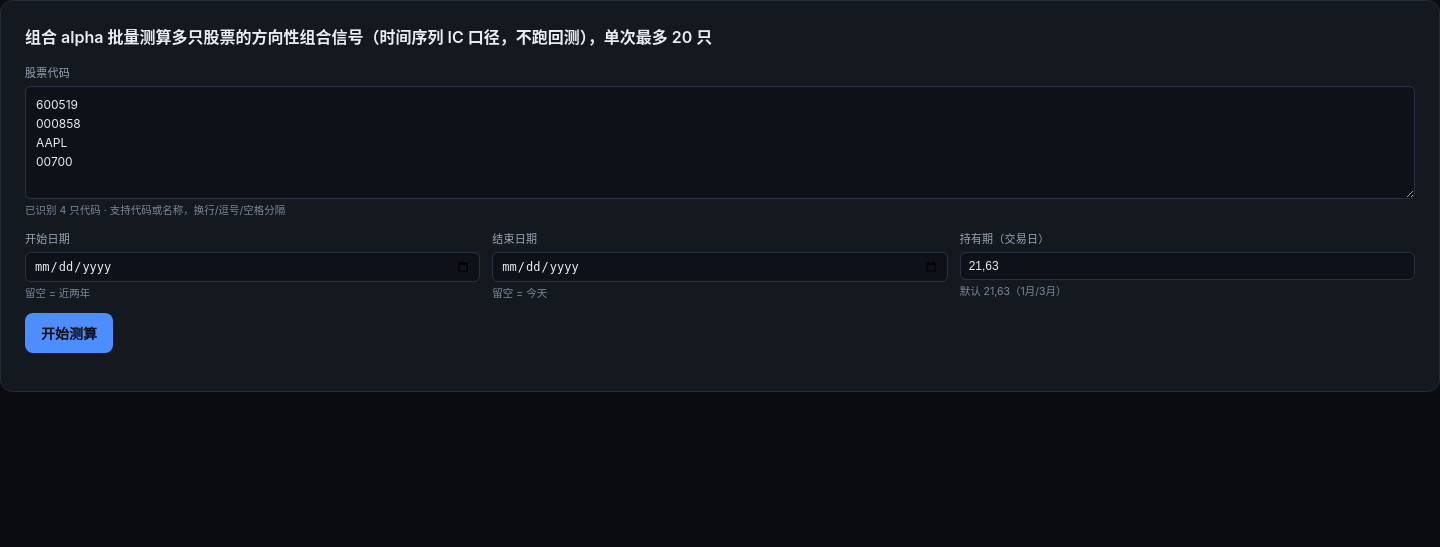
Test: CompositeBatchPanel —— 代码解析与请求参数 › 持有期全部非法时回落默认 21,63，而不是发空数组
Step 1. Replace the text in the text box labelled "股票代码 已识别 4 只代码 · 支持代码或名称，换行/逗号/空格分隔" with "600519" → (720, 142), box [25,86,1415,199]
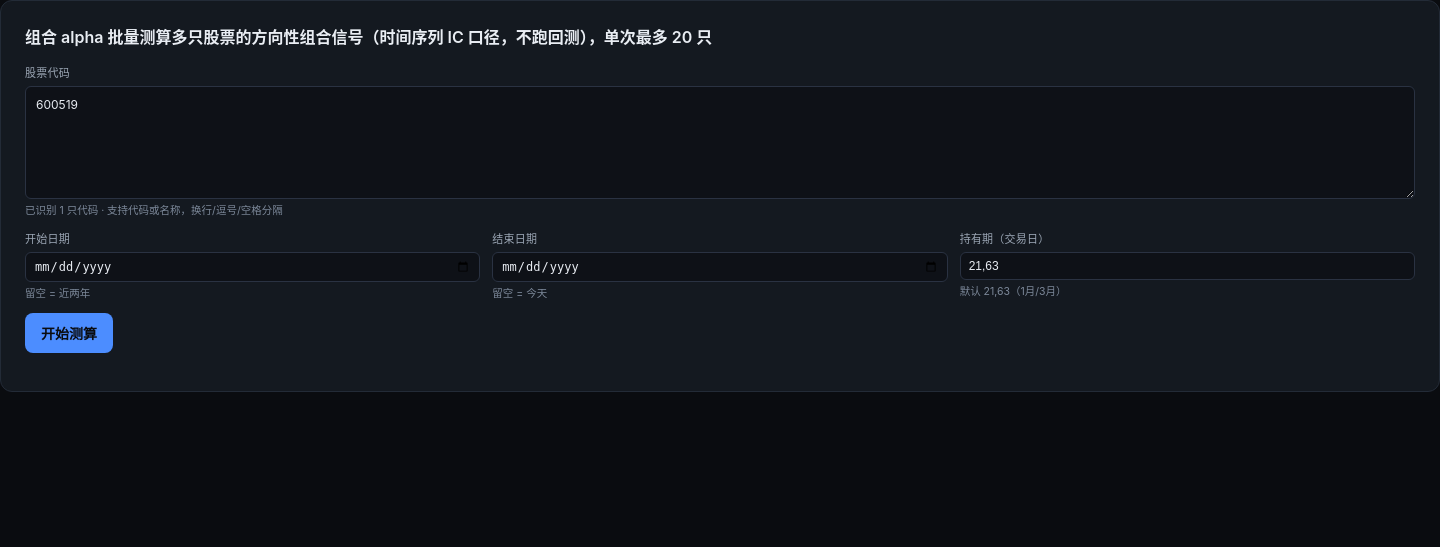
Step 2. Replace the text in the field labelled "持有期（交易日） 默认 21,63（1月/3月）" with "0, -1, x" → (1187, 266), box [960,252,1415,280]
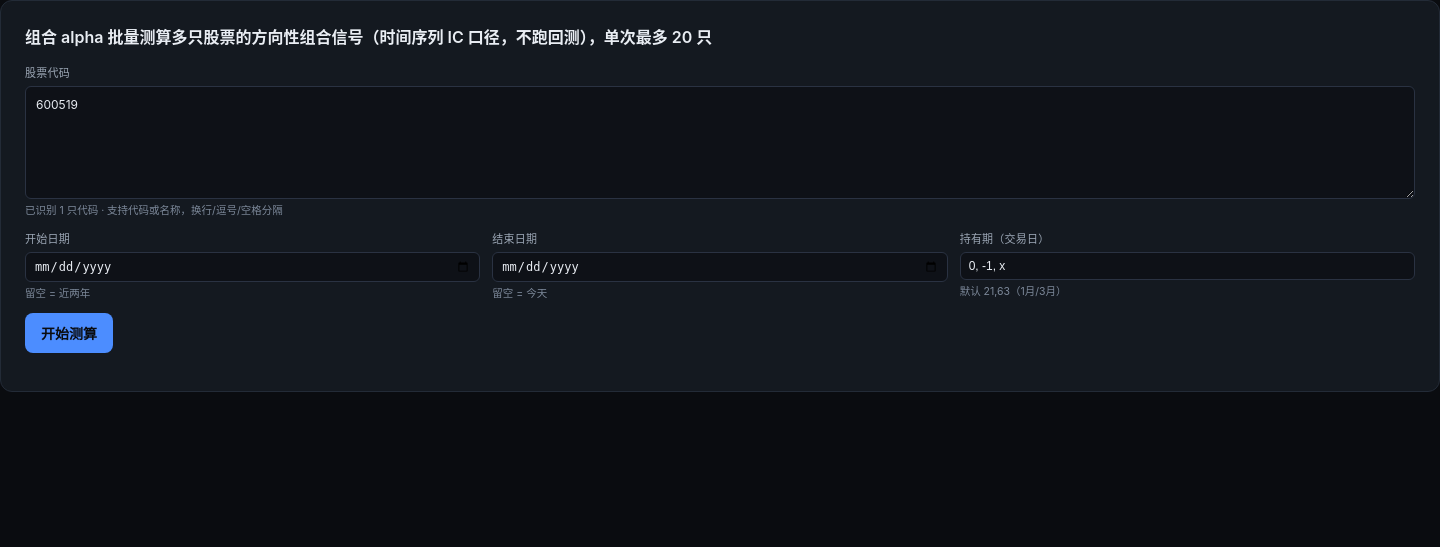
Step 3. Click the button "开始测算" → (69, 333), box [25,313,113,353]
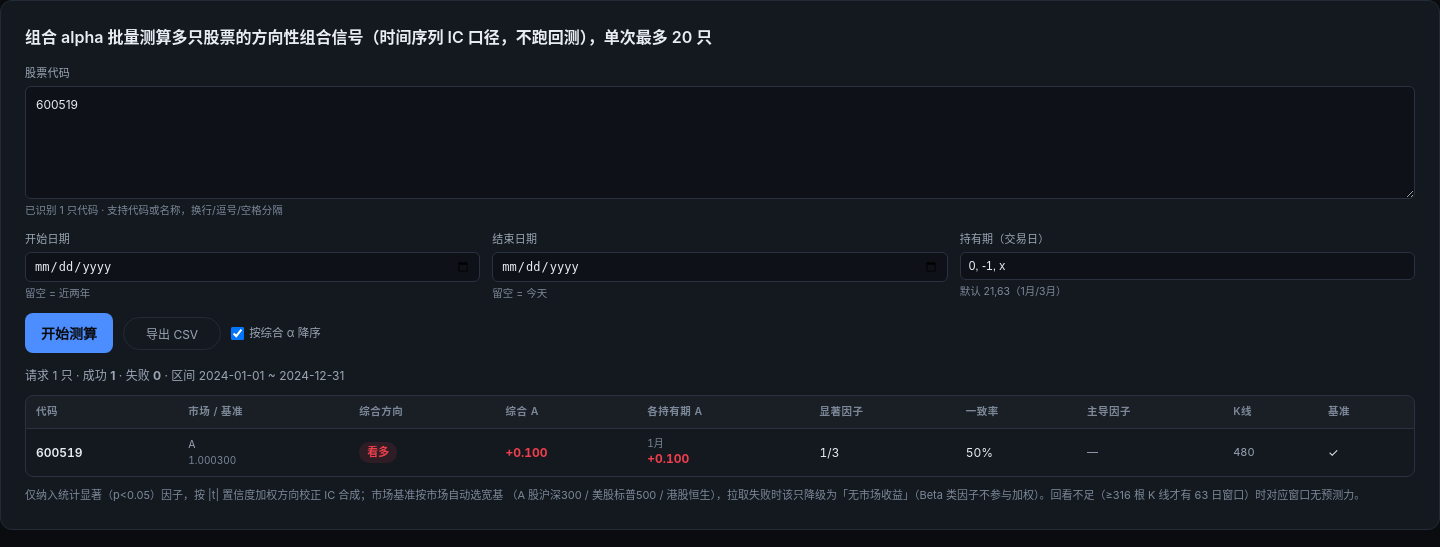
Check: the table is shown, box [26,396,1414,476]
